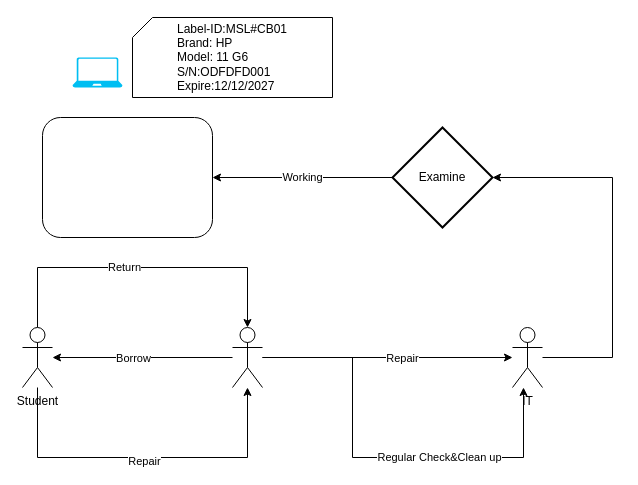
Some shapes in this 638 by 485 pixel diagram are drawn without their labels. The shapes that lost their labels are listed below. From the top down, each one's centre as x and y in pixels, then its label:
[127,177]: Available Device Pool
[247,357]: Reception
